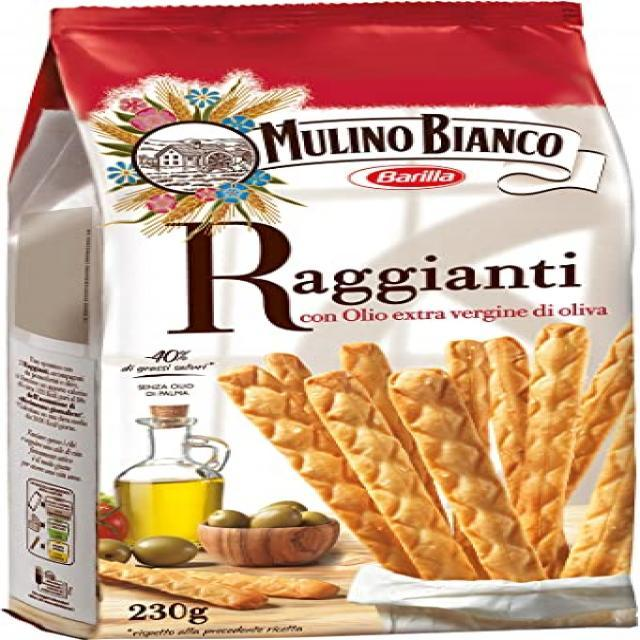Grissini: (312, 339, 544, 583)
